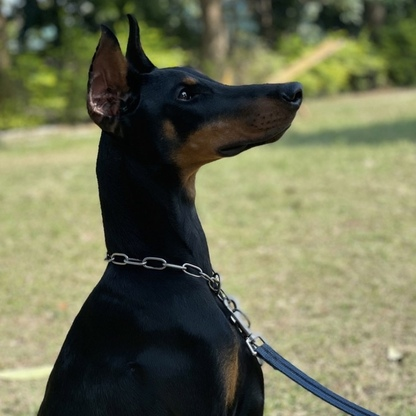doberman: (75, 18, 306, 416)
